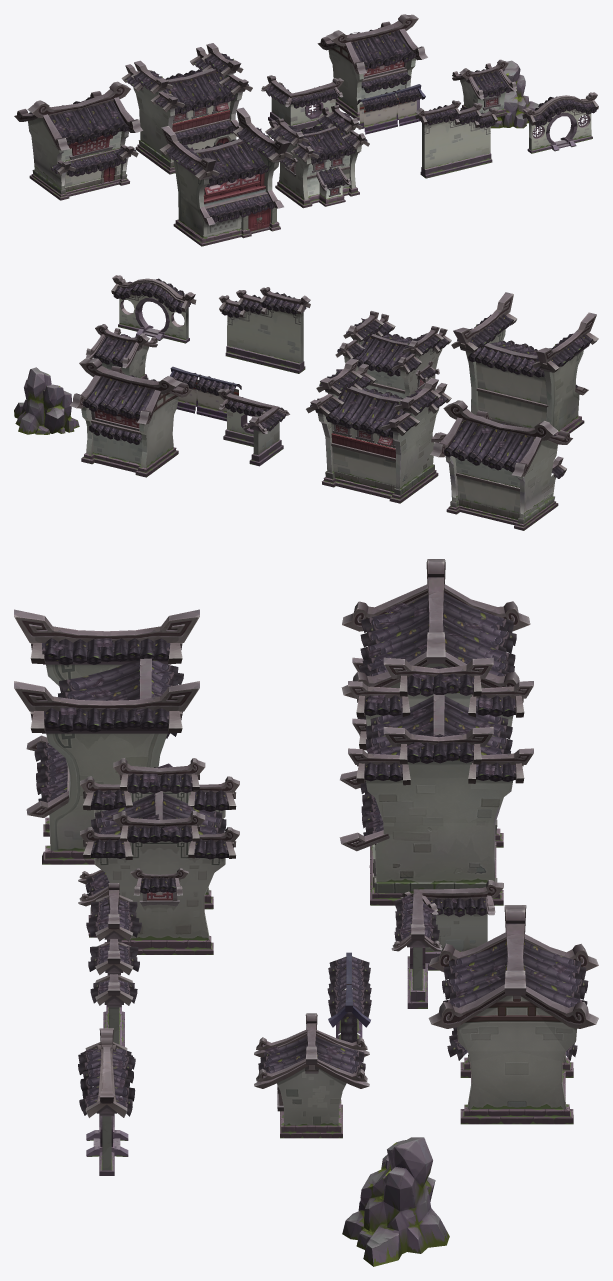
Rendered from community.glb.
3 views of the same model, one above another, from view 1: azimuth 30°, elevation 25°; view 2: azimuth 150°, elevation 25°; view 3: azimuth 270°, elevation 25° (orthographic). The views are drawn at different scales.
Parts seen in each view (by area): view 1: hepinggu_static23, hepinggu_static27, hepinggu_static28, hepinggu_static24, hepinggu_static26, hepinggu_static29, hepinggu_static30, hepinggu_static25, hepinggu_static29a, hepinggu_static31, hepinggu_static14, hepinggu_static42 (+2 smaller); view 2: hepinggu_static28, hepinggu_static27, hepinggu_static23, hepinggu_static26, hepinggu_static24, hepinggu_static29, hepinggu_static30, hepinggu_static14, hepinggu_static29a, hepinggu_static25, hepinggu_static31, hepinggu_static42 (+2 smaller); view 3: hepinggu_static28, hepinggu_static23, hepinggu_static26, hepinggu_static24, hepinggu_static27, hepinggu_static25, hepinggu_static14, hepinggu_static30, hepinggu_static29, hepinggu_static31, hepinggu_static42a, hepinggu_static42 (+1 smaller).
Boxes of the visible parts, box(x1,y1,x2,y2) form: hepinggu_static23: box(160, 107, 292, 246); hepinggu_static27: box(14, 81, 142, 200); hepinggu_static28: box(121, 43, 252, 174); hepinggu_static24: box(265, 105, 369, 208); hepinggu_static26: box(317, 14, 427, 120); hepinggu_static29: box(415, 100, 498, 150); hepinggu_static30: box(261, 75, 343, 130); hepinggu_static25: box(452, 59, 516, 117); hepinggu_static29a: box(420, 135, 492, 178); hepinggu_static31: box(522, 92, 598, 138); hepinggu_static14: box(490, 60, 538, 128); hepinggu_static42: box(357, 91, 399, 134); hepinggu_static28: box(306, 358, 451, 503); hepinggu_static27: box(430, 400, 572, 530); hepinggu_static23: box(451, 292, 598, 435); hepinggu_static26: box(69, 358, 192, 477); hepinggu_static24: box(335, 311, 451, 398); hepinggu_static29: box(219, 287, 310, 342); hepinggu_static30: box(217, 388, 290, 466); hepinggu_static14: box(14, 367, 79, 434); hepinggu_static29a: box(225, 325, 305, 373); hepinggu_static25: box(85, 324, 157, 378); hepinggu_static31: box(111, 275, 196, 326); hepinggu_static42: box(194, 375, 241, 421); hepinggu_static28: box(339, 657, 533, 905); hepinggu_static23: box(14, 609, 199, 864); hepinggu_static26: box(428, 905, 598, 1124); hepinggu_static24: box(78, 758, 239, 954); hepinggu_static27: box(341, 559, 530, 750); hepinggu_static25: box(254, 1013, 369, 1138); hepinggu_static14: box(342, 1137, 449, 1266); hepinggu_static30: box(391, 880, 503, 1008); hepinggu_static29: box(86, 883, 141, 1028); hepinggu_static31: box(78, 1028, 135, 1147); hepinggu_static42a: box(328, 985, 371, 1062); hepinggu_static42: box(327, 952, 371, 1038).
Bounding box in the file's own units: 577 × 136 × 296.
Materials: 8 (8 with a texture image).
